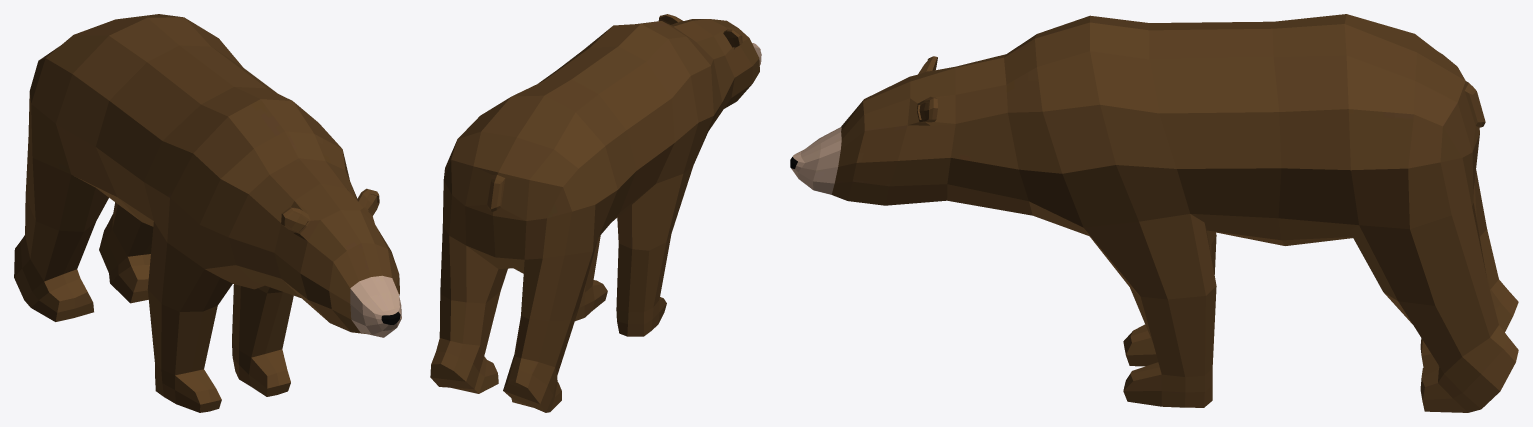
The model's file is Bear.glb.
The picture shows the model from 3 angles, left to right: view 1: azimuth 30°, elevation 25°; view 2: azimuth 150°, elevation 25°; view 3: azimuth 270°, elevation 25°; orthographic projection. The views are drawn at different scales.
Parts seen in each view (by area): view 1: 08bearFinal; view 2: 08bearFinal; view 3: 08bearFinal.
Part boxes in pixels (x1,y1,x2,y2): 08bearFinal: (14, 14, 401, 412); 08bearFinal: (430, 14, 761, 412); 08bearFinal: (790, 14, 1518, 412).
Bounding box in the file's own units: 1.12 × 1.91 × 3.52.
1 material, 1 textured.
